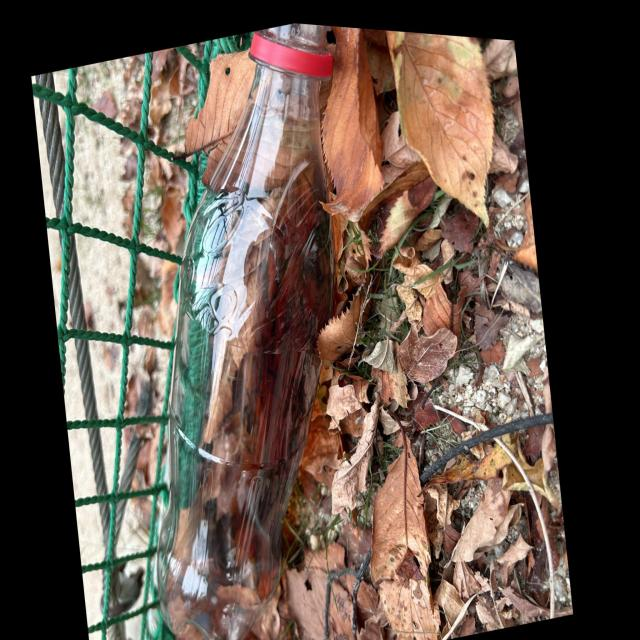medium: (157, 25, 335, 640)
